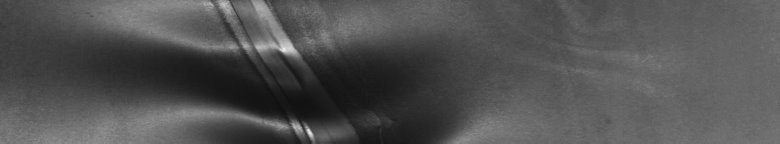ke: (148, 4, 391, 136)
